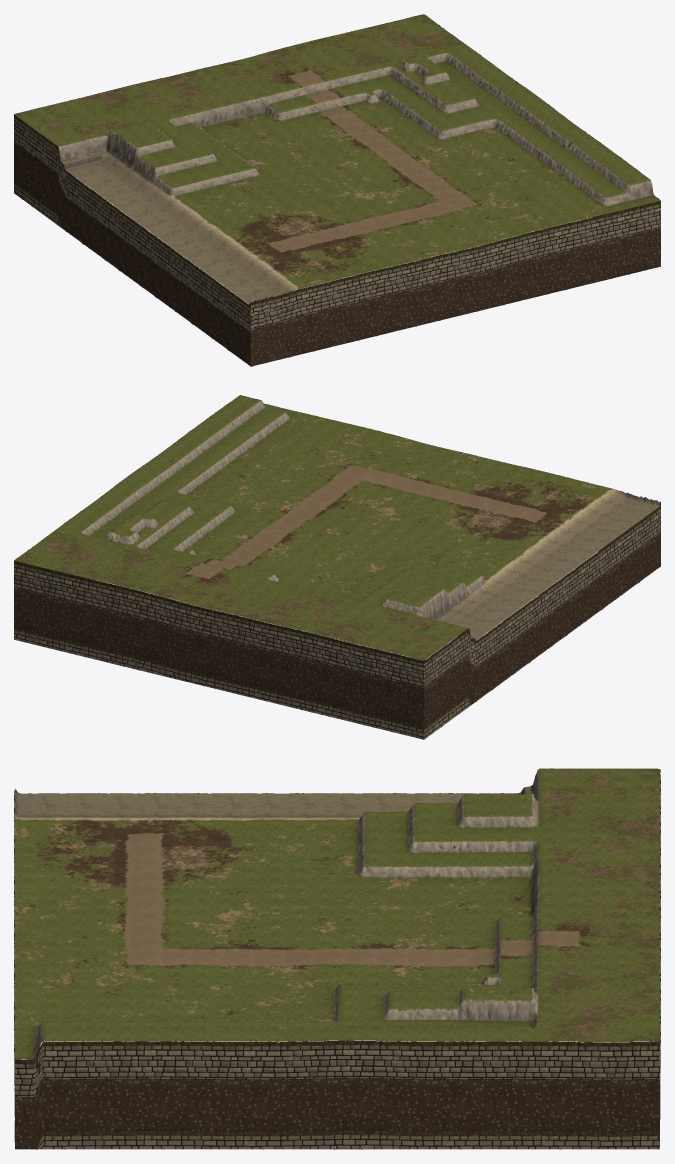
Rendered from terreno_pianura.gltf.
3 views of the same model, one above another, from view 1: azimuth 30°, elevation 25°; view 2: azimuth 150°, elevation 25°; view 3: azimuth 270°, elevation 25° (orthographic). The views are drawn at different scales.
Visible parts, largest first — view 1: Terreno_Superficie, Terreno_Lati; view 2: Terreno_Superficie, Terreno_Lati; view 3: Terreno_Superficie, Terreno_Lati.
Boxes of the visible parts, <box> form: Terreno_Superficie: <box>14,14,660,304</box>; Terreno_Lati: <box>14,14,660,366</box>; Terreno_Superficie: <box>14,395,660,660</box>; Terreno_Lati: <box>14,395,660,739</box>; Terreno_Superficie: <box>15,768,659,1059</box>; Terreno_Lati: <box>14,768,660,1149</box>.
Bounding box in the file's own units: 52.16 × 10.48 × 52.16.
Materials: 2 (2 with a texture image).
